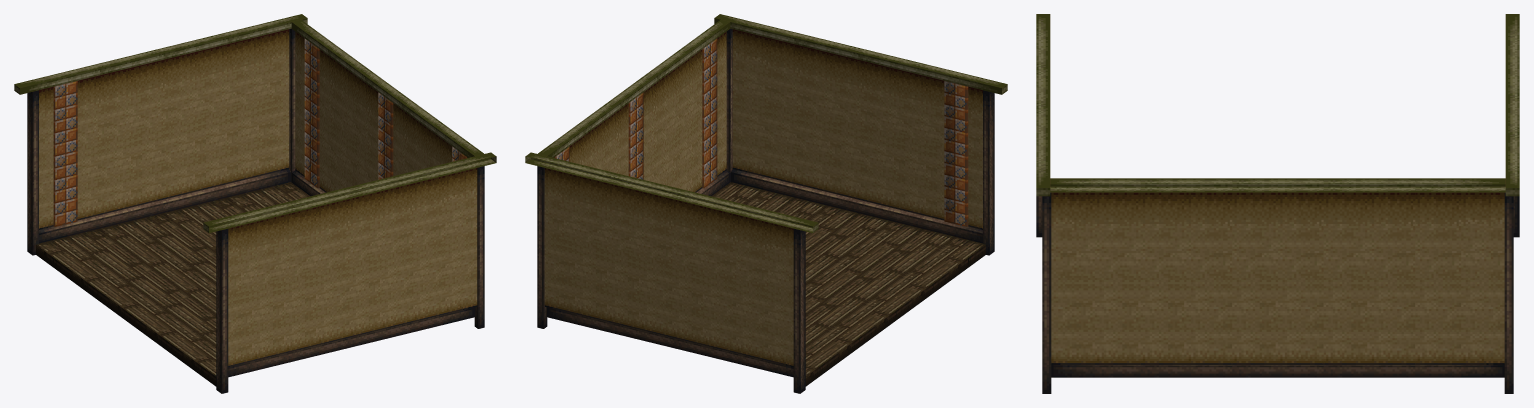
File: EnvBdgMD_Sea_A_Indoor_House_Scholar.FBX
3 views of the same model, side by side, from view 1: azimuth 30°, elevation 25°; view 2: azimuth 150°, elevation 25°; view 3: azimuth 270°, elevation 25° (orthographic). The views are drawn at different scales.
Visible parts, largest first — view 1: EnvBdgMD_Sea_A_Indoor_House_Scholar; view 2: EnvBdgMD_Sea_A_Indoor_House_Scholar; view 3: EnvBdgMD_Sea_A_Indoor_House_Scholar.
Boxes of the visible parts, <box> form: EnvBdgMD_Sea_A_Indoor_House_Scholar: <box>14,14,496,393</box>; EnvBdgMD_Sea_A_Indoor_House_Scholar: <box>525,14,1007,393</box>; EnvBdgMD_Sea_A_Indoor_House_Scholar: <box>1036,14,1519,393</box>.
Size of the model in its own units: 900 by 510 by 1055.
Materials: 1 (1 with a texture image).
